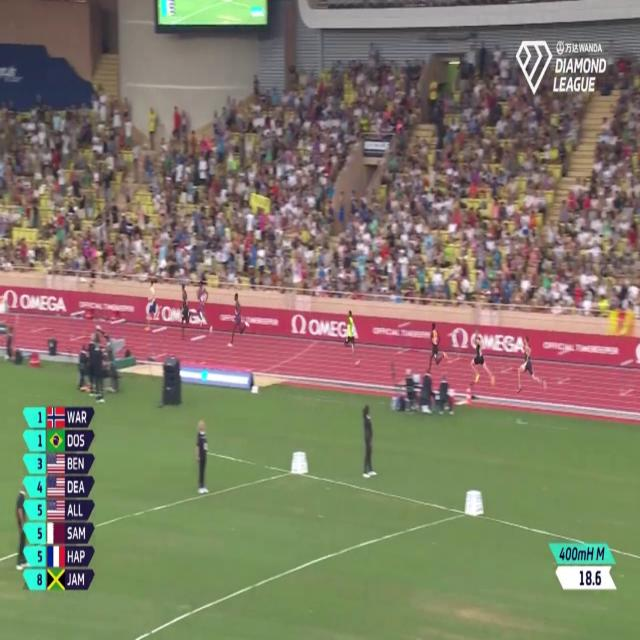athlete: (516, 334, 548, 398), (226, 284, 252, 354), (468, 328, 495, 393), (426, 313, 450, 375), (341, 304, 363, 368), (196, 277, 215, 336), (144, 272, 160, 338), (177, 280, 190, 342)
hurdle: (496, 339, 517, 380), (29, 299, 52, 335), (555, 344, 576, 383), (108, 315, 130, 349), (395, 318, 412, 361), (444, 328, 464, 364), (618, 354, 635, 396), (189, 333, 208, 368), (151, 325, 170, 360), (69, 308, 89, 339)
